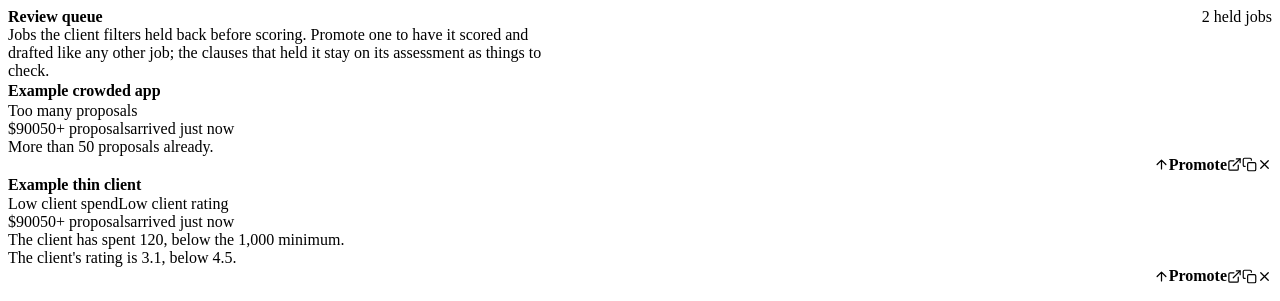
Test: the review queue › promotes a job and takes its card off the list
Click the 1st button "Promote".
click(1190, 165)  # box [1154,156,1227,174]
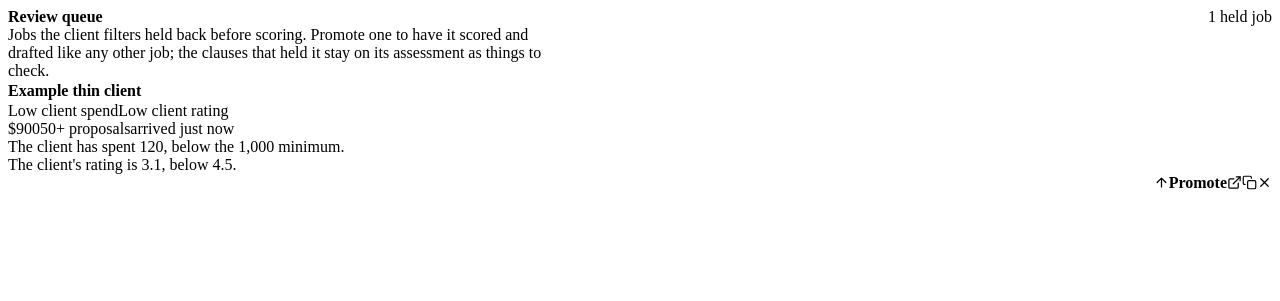
Expected: the text "Example thin client" is shown, [8,82,141,99]
Expected: the message shows "Example crowded app is promoted", [8,96,571,113]
Expected: the text "1 held job" is shown, [1208,8,1272,26]
